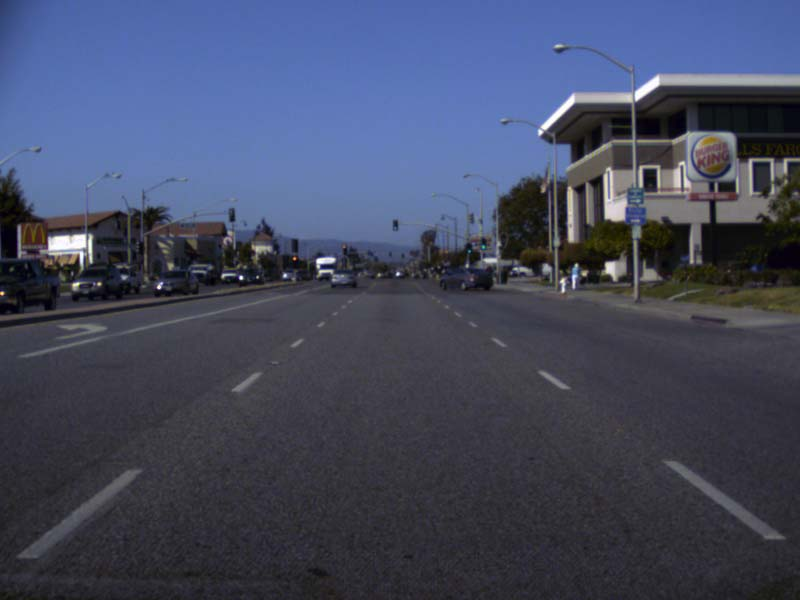Green: (480, 238, 485, 250), (392, 219, 397, 231), (466, 243, 471, 253)
Red: (290, 255, 297, 267), (341, 243, 346, 254)
